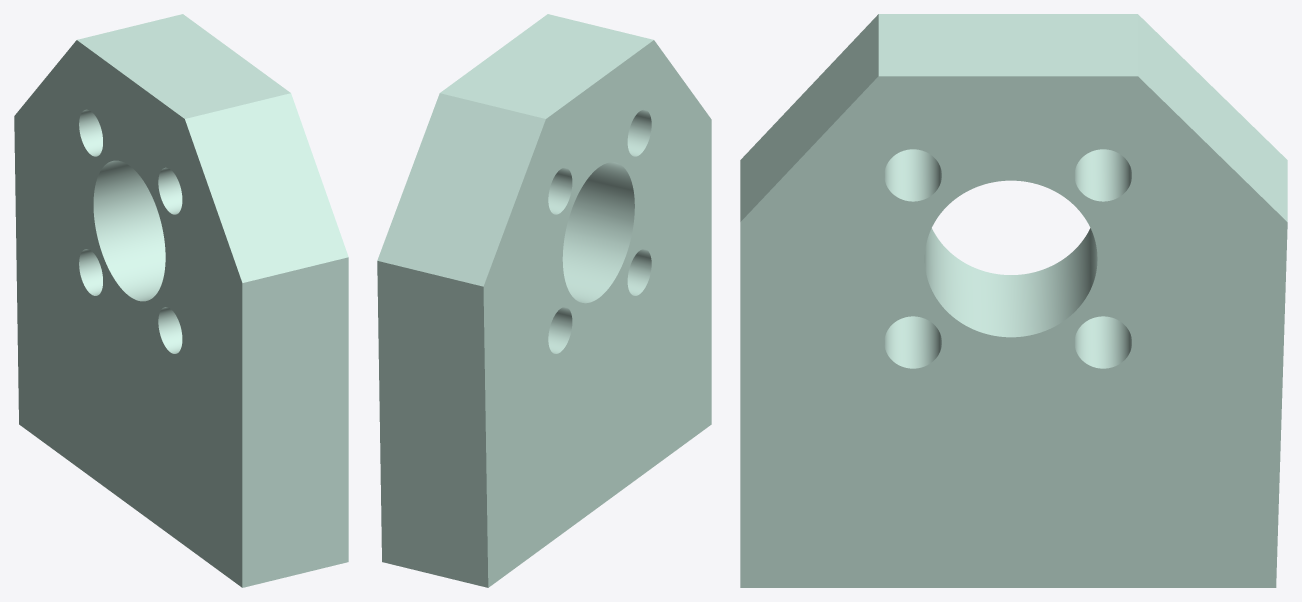
3 renders of one model, left to right at view 1: azimuth 30°, elevation 25°; view 2: azimuth 150°, elevation 25°; view 3: azimuth 270°, elevation 25°, orthographic. The views are drawn at different scales.
Visible parts, largest first — view 1: Renderer Node; view 2: Renderer Node; view 3: Renderer Node.
Part boxes in pixels (x1,y1,x2,y2): Renderer Node: [14, 14, 348, 587]; Renderer Node: [377, 14, 711, 587]; Renderer Node: [740, 14, 1287, 587].
Size of the model in its own units: 0.1953 by 0.7495 by 0.7266.
